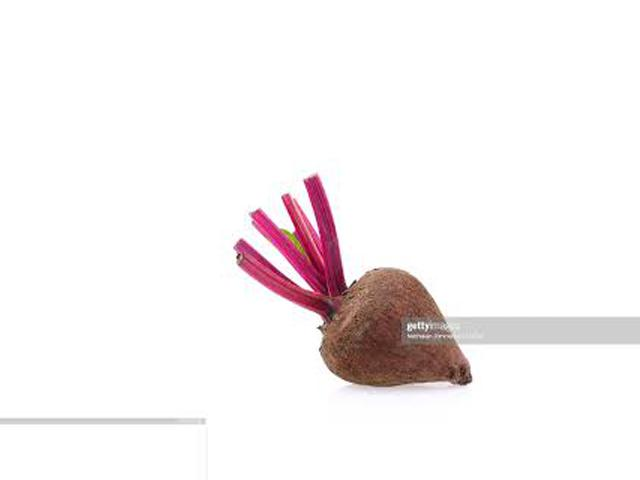beet: (234, 174, 472, 386)
